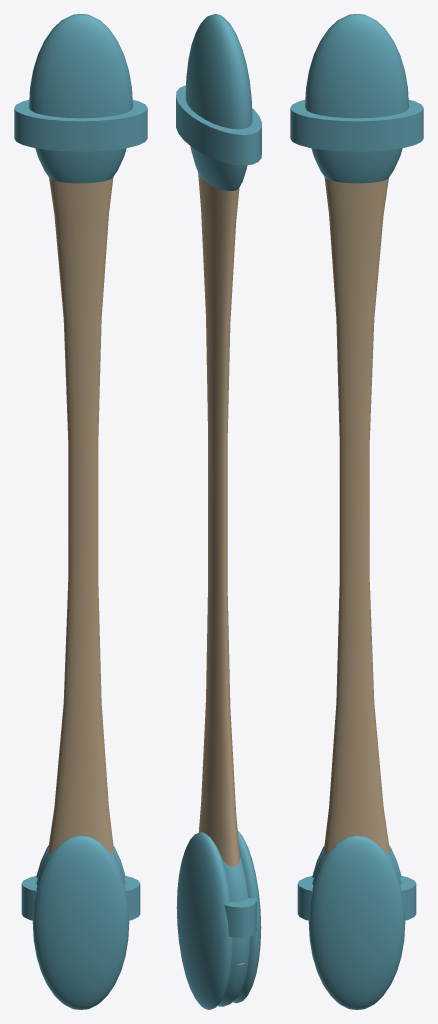
The model's file is right_fibula.glb.
3 views of the same model, side by side, from view 1: azimuth 90°, elevation 25°; view 2: azimuth 210°, elevation 25°; view 3: azimuth 270°, elevation 25° (orthographic).
Visible parts, largest first — view 1: right_fibula:diaphysis, right_fibula:condyle--1, right_fibula:proximal-envelope, right_fibula:proximal-epiphyseal-plate, right_fibula:distal-epiphyseal-plate; view 2: right_fibula:diaphysis, right_fibula:condyle-1, right_fibula:proximal-envelope, right_fibula:proximal-epiphyseal-plate, right_fibula:distal-envelope, right_fibula:condyle--1, right_fibula:distal-epiphyseal-plate; view 3: right_fibula:diaphysis, right_fibula:condyle-1, right_fibula:proximal-envelope, right_fibula:proximal-epiphyseal-plate, right_fibula:distal-epiphyseal-plate.
Part boxes in pixels (x1,y1,x2,y2): right_fibula:diaphysis: [47, 177, 114, 854]; right_fibula:condyle--1: [32, 835, 129, 1009]; right_fibula:proximal-envelope: [29, 14, 132, 183]; right_fibula:proximal-epiphyseal-plate: [14, 100, 147, 151]; right_fibula:distal-epiphyseal-plate: [21, 875, 140, 920]; right_fibula:diaphysis: [198, 172, 245, 965]; right_fibula:condyle-1: [176, 832, 232, 1009]; right_fibula:proximal-envelope: [185, 14, 252, 190]; right_fibula:proximal-epiphyseal-plate: [176, 85, 261, 165]; right_fibula:distal-envelope: [217, 857, 249, 1006]; right_fibula:condyle--1: [233, 830, 261, 1003]; right_fibula:distal-epiphyseal-plate: [224, 897, 256, 937]; right_fibula:diaphysis: [323, 177, 390, 854]; right_fibula:condyle-1: [308, 835, 405, 1009]; right_fibula:proximal-envelope: [305, 14, 408, 183]; right_fibula:proximal-epiphyseal-plate: [290, 100, 423, 151]; right_fibula:distal-epiphyseal-plate: [297, 875, 416, 920].
Bounding box in the file's own units: 0.0528 × 0.8624 × 0.1056.
